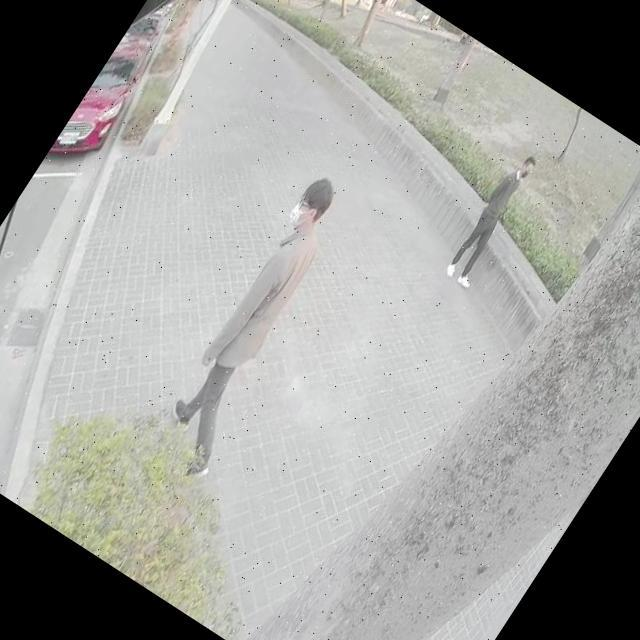person: (140, 173, 378, 484), (438, 150, 542, 287)
